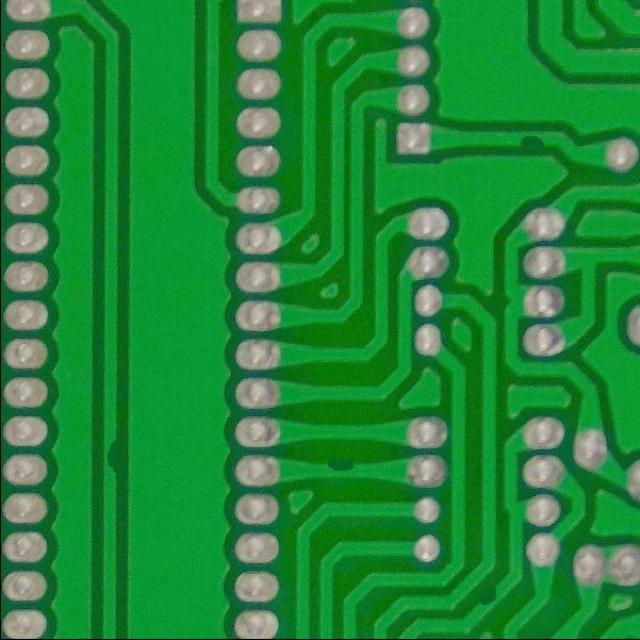mouse_bite: (94, 431, 124, 478), (315, 457, 362, 484), (507, 126, 549, 152), (470, 584, 502, 616)
